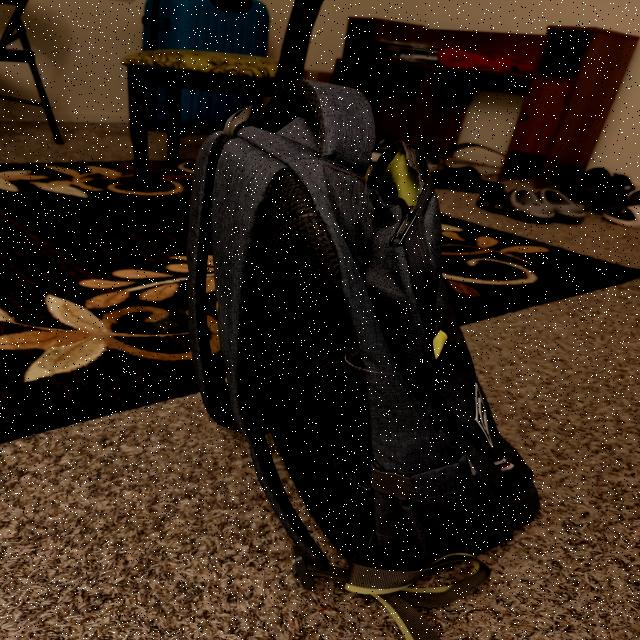bag: (197, 81, 525, 596)
